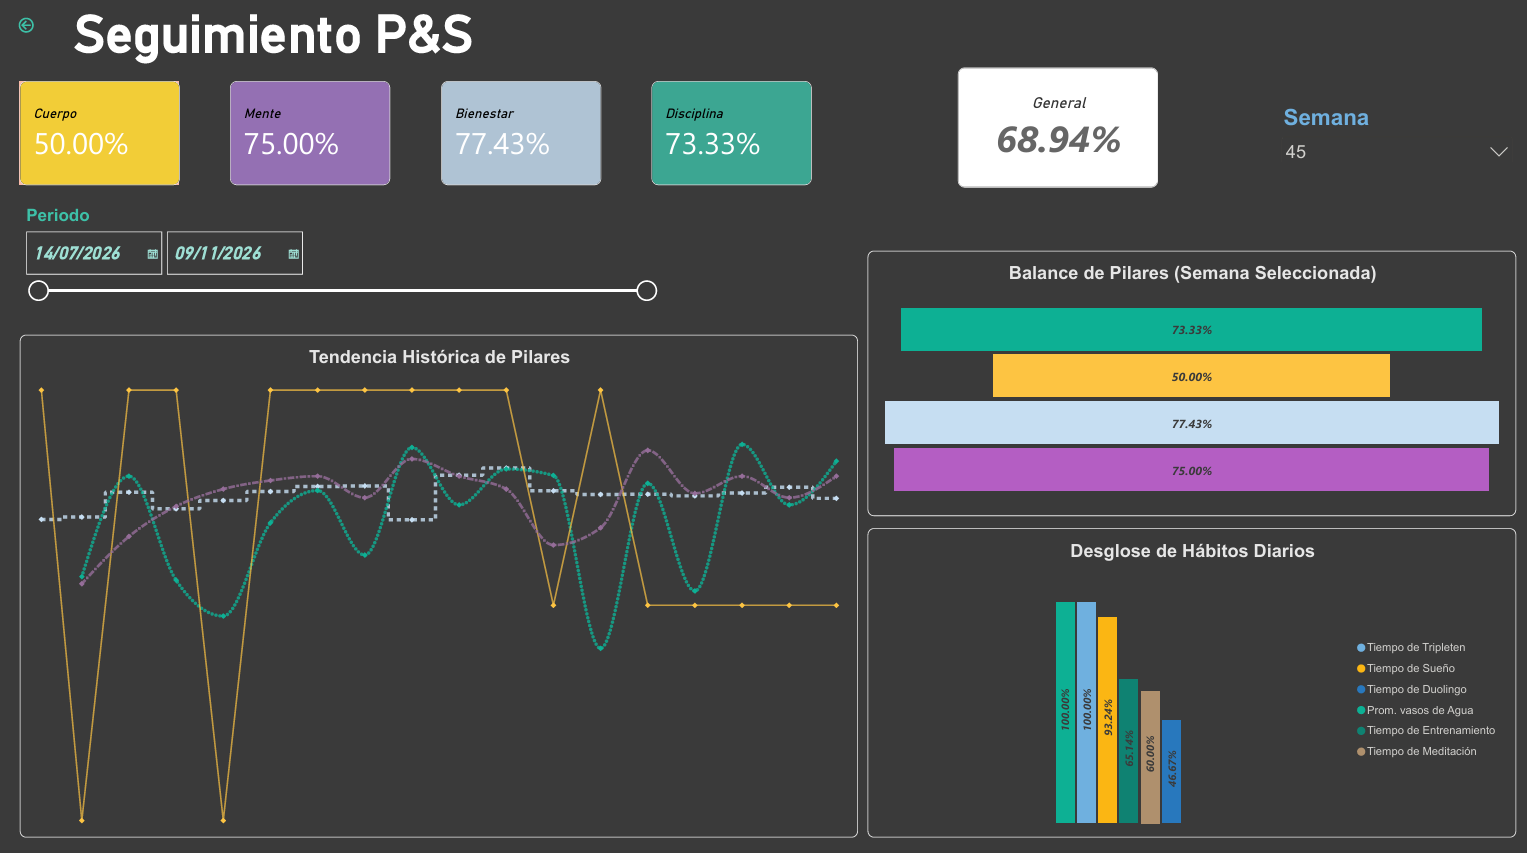

The page's visual inventory and layout, read from the dashboard file:
{"tool":"powerbi","page":{"name":"Dashboard","canvas":[1920,1080],"ordinal":1},"visuals":[{"type":"cardVisual","fields":{"Data":["TB_Salud.Score_Fisico"]},"box":[31.9,110.4,200,130],"z":0},{"type":"cardVisual","fields":{"Data":["TB_Salud.Score_Mente"]},"box":[295.3,110.4,200,130],"z":1000},{"type":"cardVisual","fields":{"Data":["TB_Salud.Score_Disciplina"]},"box":[822,110.4,200,130],"z":2000},{"type":"cardVisual","fields":{"Data":["TB_Salud.Score_Habitos"]},"box":[558.6,110.4,200,130],"z":3000},{"type":"cardVisual","fields":{"Data":["Avg(TB_Concentrado.General)"]},"box":[1205,93.1,250,150],"z":4000},{"type":"slicer","fields":{"Values":["TB_Salud.Semana"]},"box":[1604,139.7,300,70],"z":5000},{"type":"lineChart","title":"Tendencia Histórica de Pilares","fields":{"Category":["TB_Salud.Inicio"],"Y":["TB_Salud.Score_Habitos","TB_Salud.Score_Disciplina","TB_Salud.Score_Fisico","TB_Salud.Score_Mente"]},"box":[31.9,426.9,1048.1,629.1],"z":6000},{"type":"funnel","title":"Balance de Pilares (Semana Seleccionada)","fields":{"Y":["TB_Salud.Score_Disciplina","TB_Salud.Score_Fisico","TB_Salud.Score_Habitos","TB_Salud.Score_Mente"]},"box":[1092,321.9,811.3,332.5],"z":7000},{"type":"clusteredColumnChart","title":"Desglose de Hábitos Diarios","fields":{"Category":["TB_Salud.Semana"],"Y":["Avg(TB_Concentrado.Tripleten)","Avg(TB_Concentrado.Sueño)","Avg(TB_Concentrado.Duolingo)","Avg(TB_Concentrado.Agua)","Avg(TB_Concentrado.Entrenamiento)","Avg(TB_Concentrado.Meditación)"]},"box":[1092,669,811.3,387],"z":8000},{"type":"slicer","fields":{"Values":["TB_Salud.Inicio"]},"box":[31.9,266,800,160],"z":9000},{"type":"textbox","box":[71.8,13.3,554.6,79.8],"z":10000},{"type":"actionButton","box":[0,0,80,80],"z":11000}]}

Visuals, with their boxes in screenshot pixels (x1, y1, x2, y2), scaled from the page's 1920x1080 canvas onto the 1527x853 screenshot:
cardVisual - TB_Salud.Score_Fisico: x1=25, y1=87, x2=184, y2=190
cardVisual - TB_Salud.Score_Mente: x1=235, y1=87, x2=394, y2=190
cardVisual - TB_Salud.Score_Disciplina: x1=654, y1=87, x2=813, y2=190
cardVisual - TB_Salud.Score_Habitos: x1=444, y1=87, x2=603, y2=190
cardVisual - Avg(TB_Concentrado.General): x1=958, y1=74, x2=1157, y2=192
slicer - TB_Salud.Semana: x1=1276, y1=110, x2=1514, y2=166
"Tendencia Histórica de Pilares" lineChart: x1=25, y1=337, x2=859, y2=834
"Balance de Pilares (Semana Seleccionada)" funnel: x1=868, y1=254, x2=1514, y2=517
"Desglose de Hábitos Diarios" clusteredColumnChart: x1=868, y1=528, x2=1514, y2=834
slicer - TB_Salud.Inicio: x1=25, y1=210, x2=662, y2=336
textbox: x1=57, y1=11, x2=498, y2=74
actionButton: x1=0, y1=0, x2=64, y2=63
